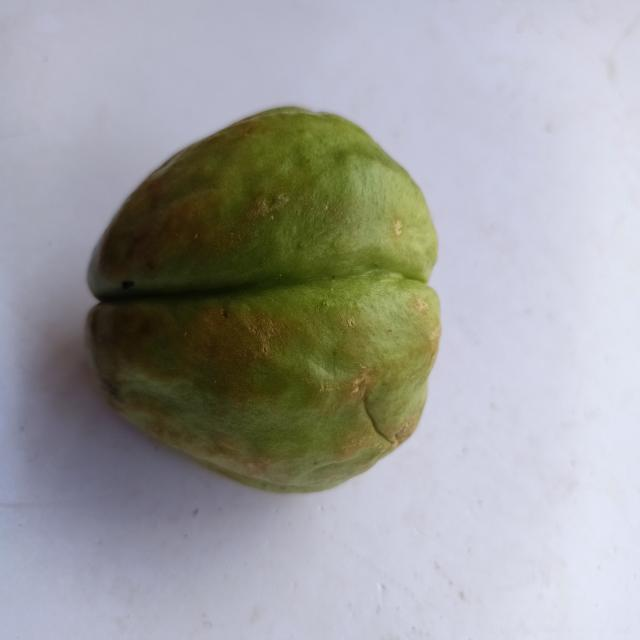Chayote: (79, 80, 449, 512)
